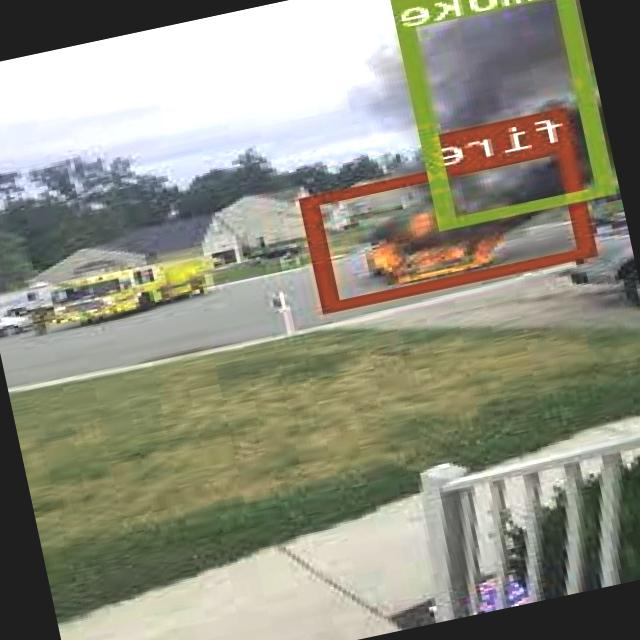fire: (305, 138, 598, 310)
smoke: (393, 0, 618, 227)
